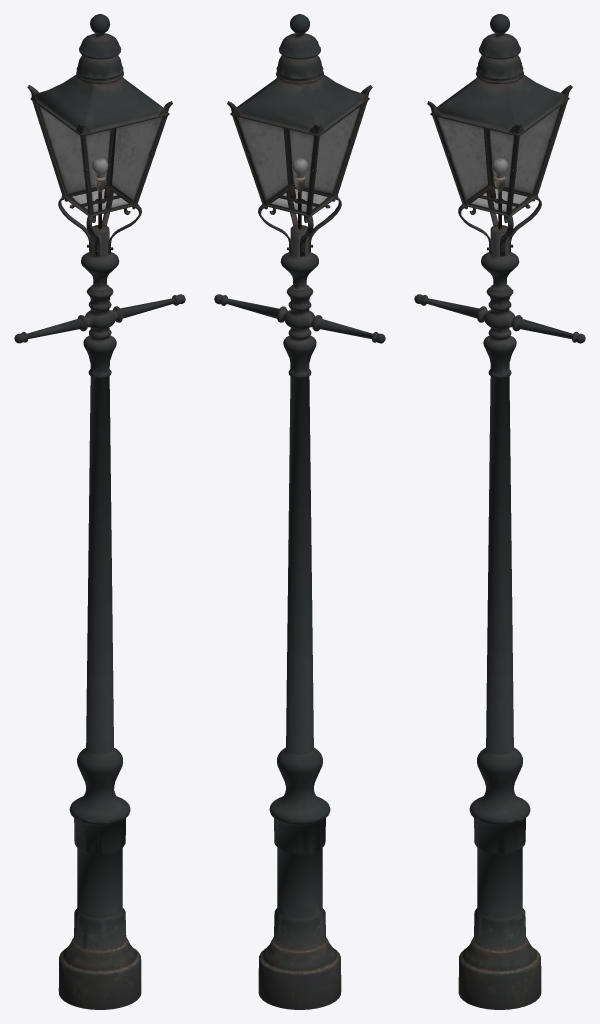
Rendered from street-lamp.glb.
3 renders of one model, left to right at view 1: azimuth 30°, elevation 25°; view 2: azimuth 150°, elevation 25°; view 3: azimuth 330°, elevation 25°, orthographic.
Visible parts, largest first — view 1: street_lamp_01; view 2: street_lamp_01; view 3: street_lamp_01.
Part boxes in pixels (<box>): street_lamp_01: <box>14,14,185,1009</box>; street_lamp_01: <box>214,14,385,1009</box>; street_lamp_01: <box>414,14,585,1009</box>.
Size of the model in its own units: 0.7035 by 3.87 by 0.3865.
2 materials, 2 textured.
